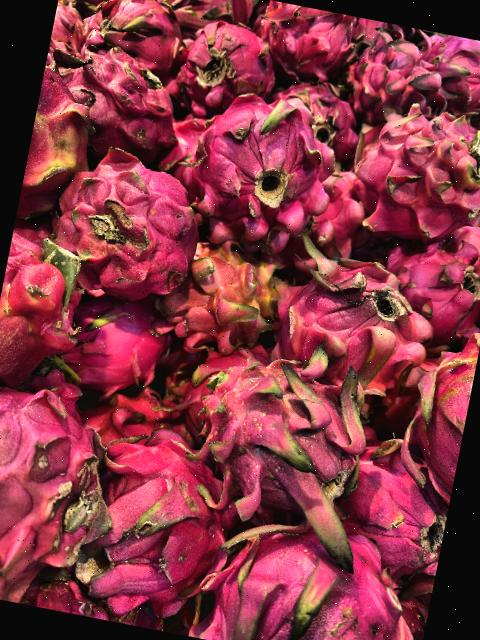buah-naga-belum-matang: (176, 238, 295, 356)
buah-naga-matang: (183, 356, 393, 537), (72, 432, 248, 631), (192, 507, 439, 640), (171, 85, 349, 248), (270, 246, 440, 409), (0, 387, 125, 605), (50, 155, 204, 302), (316, 435, 458, 588), (341, 98, 480, 242), (50, 40, 194, 176), (0, 229, 95, 394), (16, 66, 106, 225), (164, 10, 284, 116), (393, 347, 477, 497), (368, 244, 480, 348), (75, 0, 203, 87), (347, 34, 456, 132)
